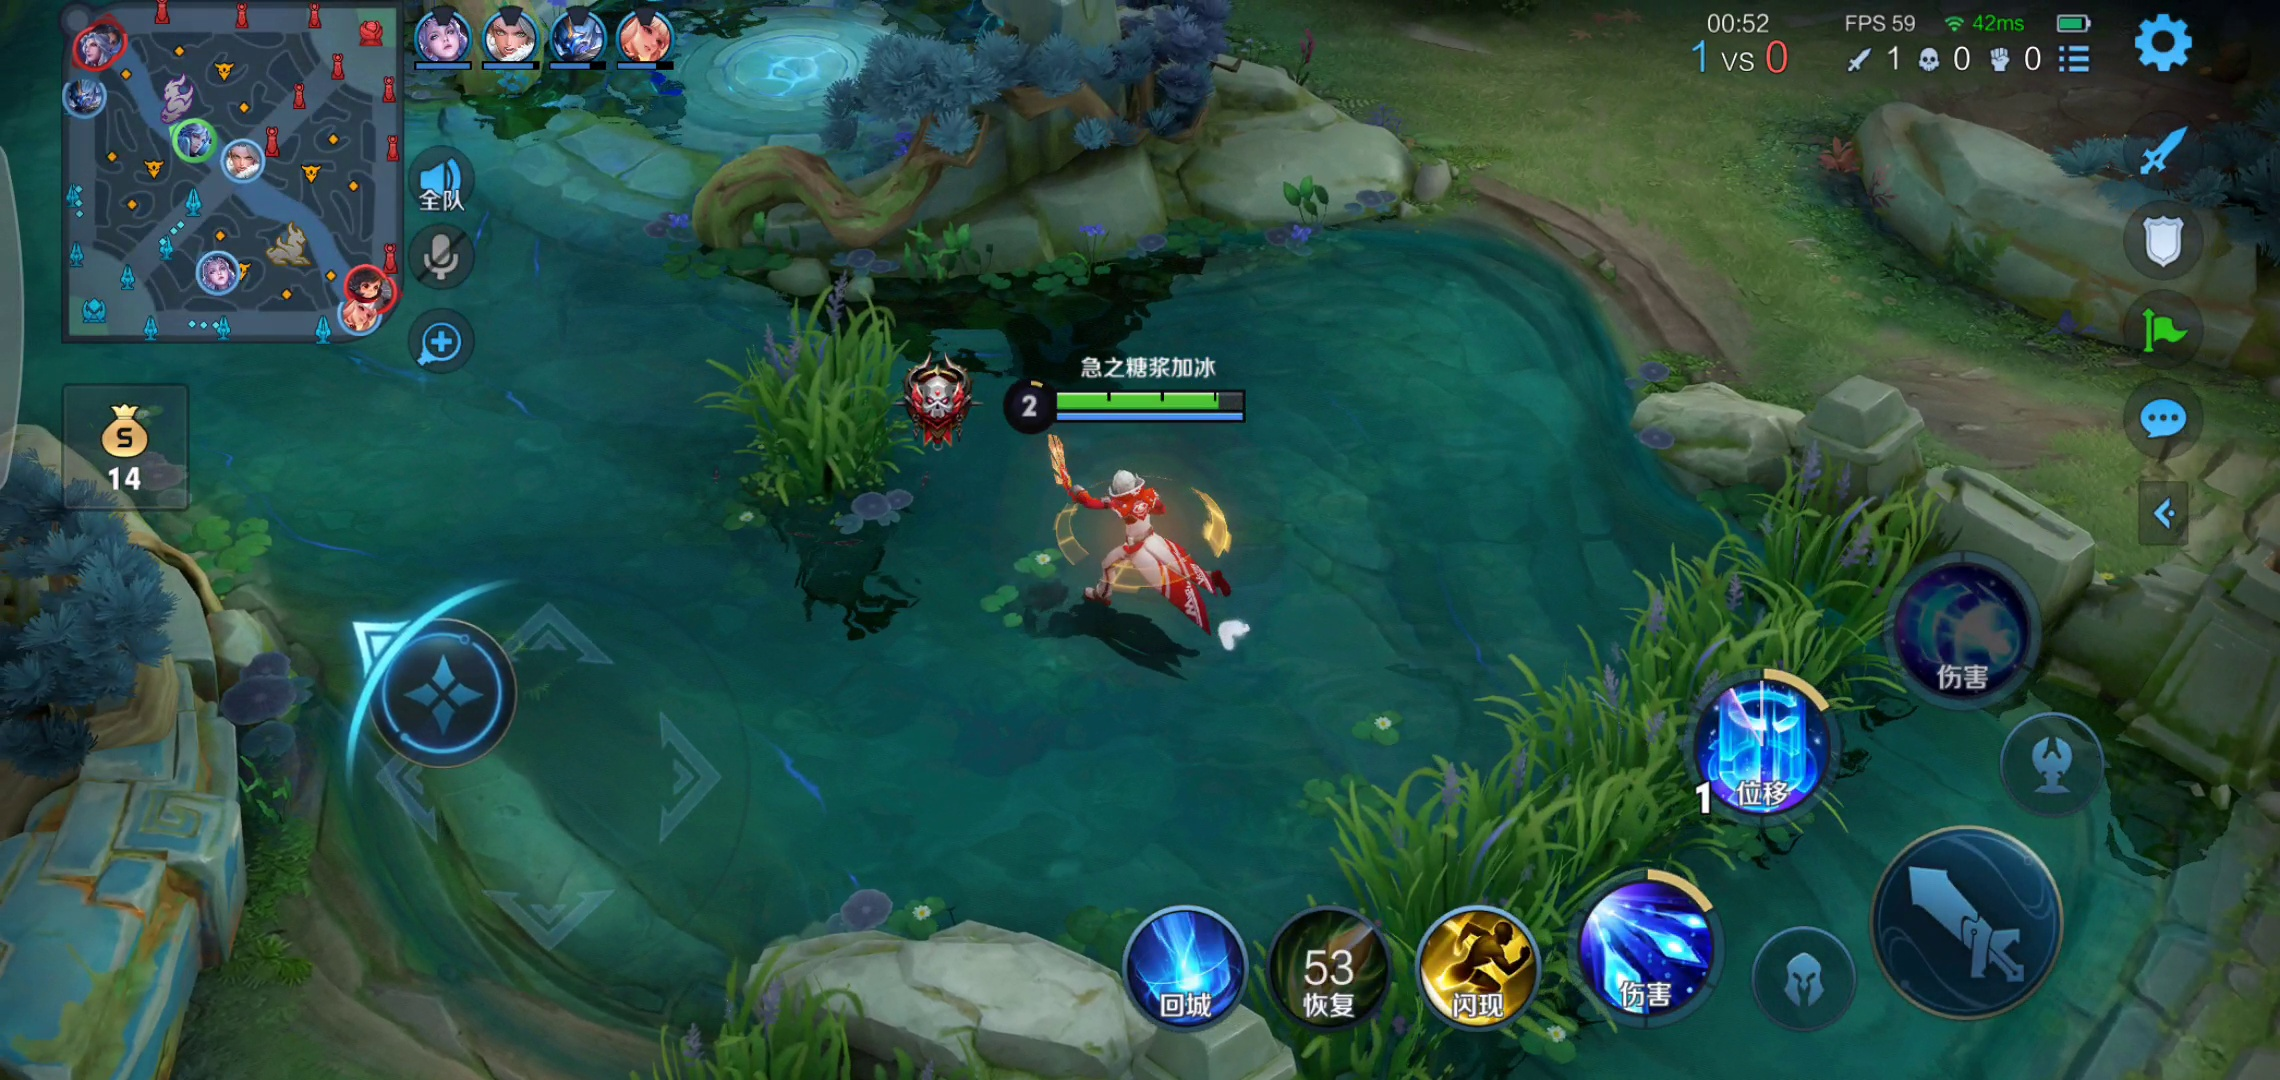grass: (1309, 467, 1970, 1077), (712, 286, 918, 520)
hero: (1003, 440, 1242, 648)
